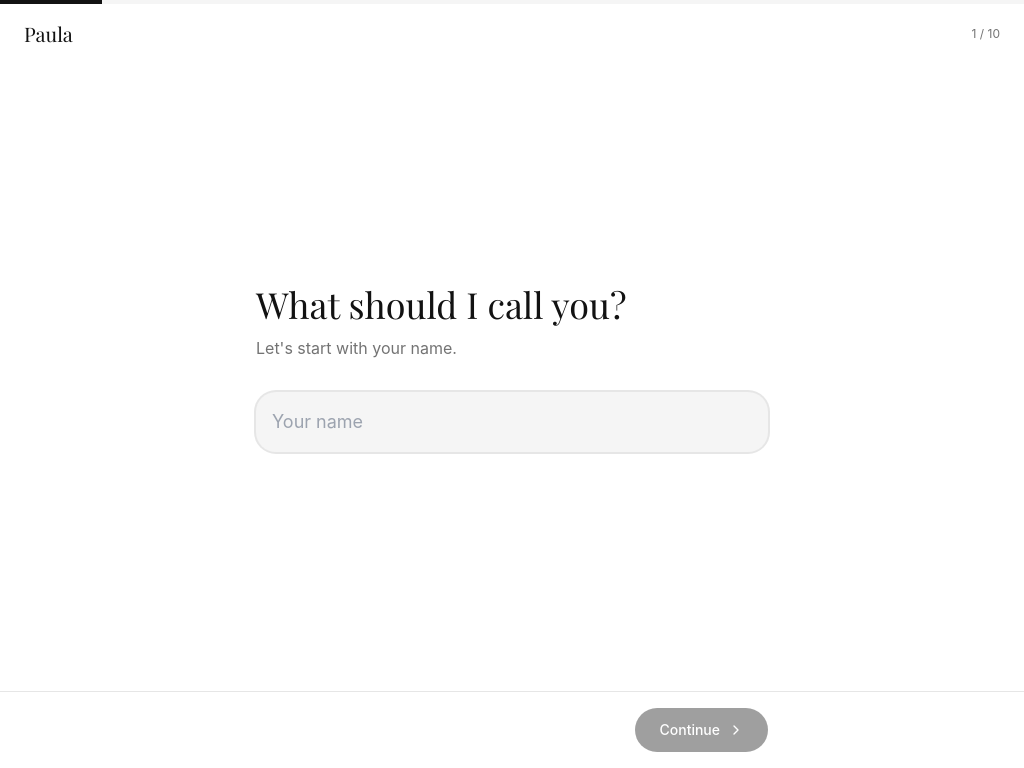
Test: Onboarding — sensowność wpisanych wymiarów › nie przepuszcza dalej, póki obwody nie są podane
Type "Gabriela" into the field with placeholder "Your name". click: {"x": 512, "y": 422}
box: [256,392,768,452]
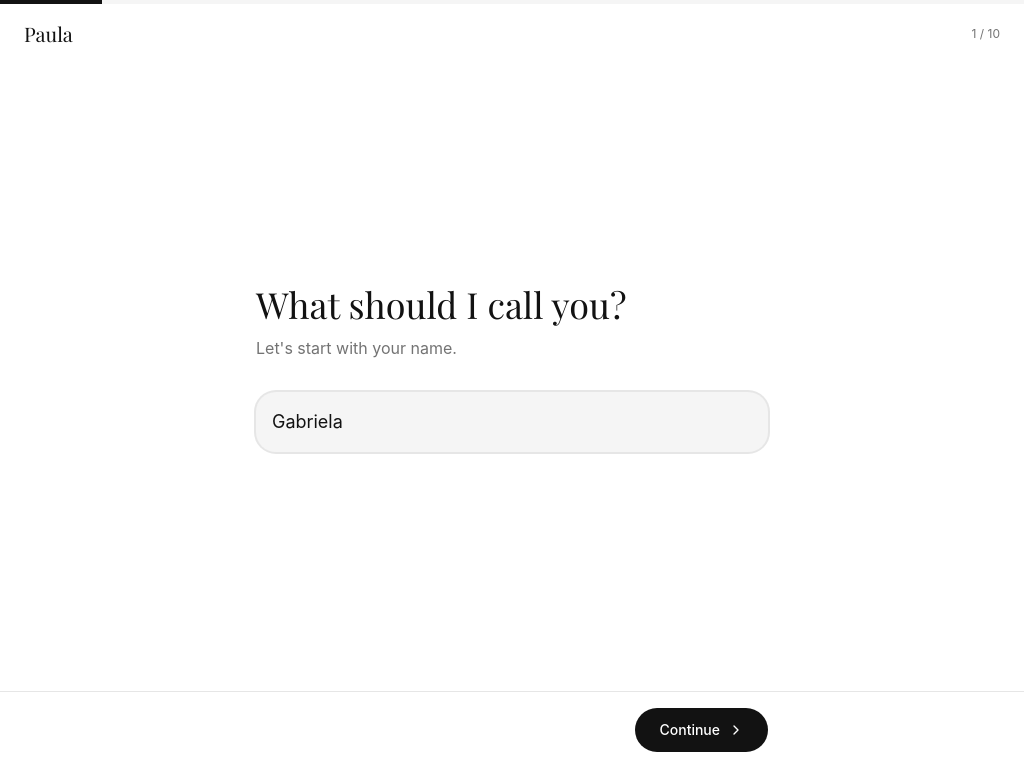
Now the button "Continue" is enabled
Click the button "Continue". click: {"x": 702, "y": 730}
box: [636,708,768,752]
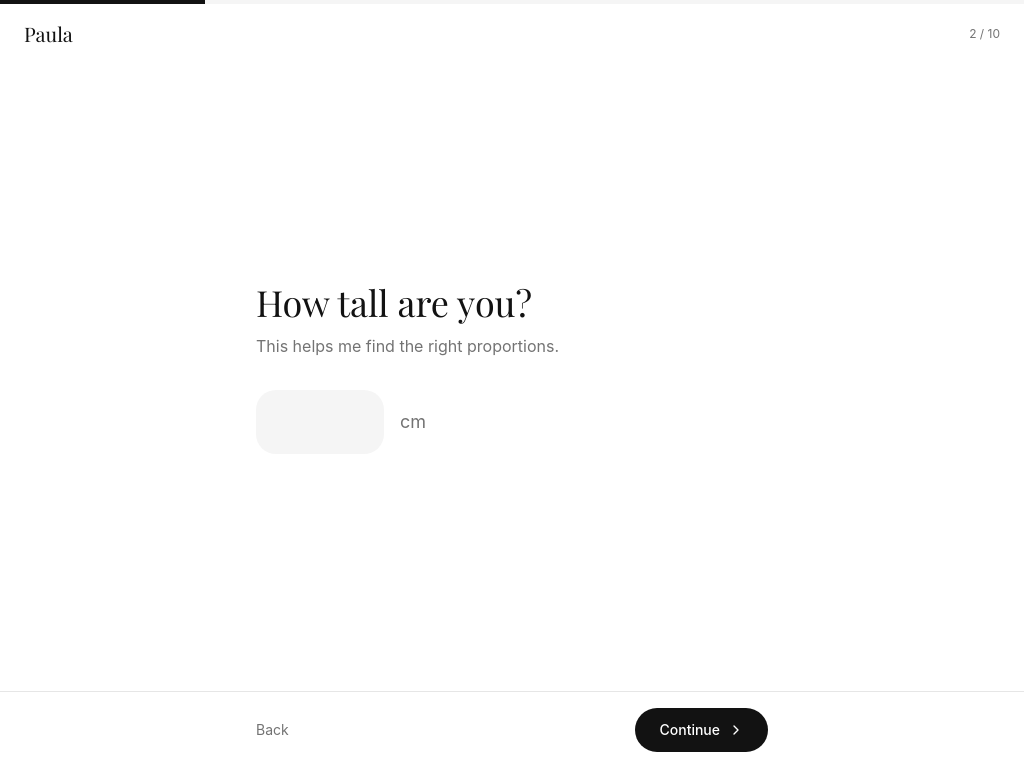
Now the button "Continue" is enabled
Click the button "Continue". click: {"x": 702, "y": 730}
box: [636,708,768,752]
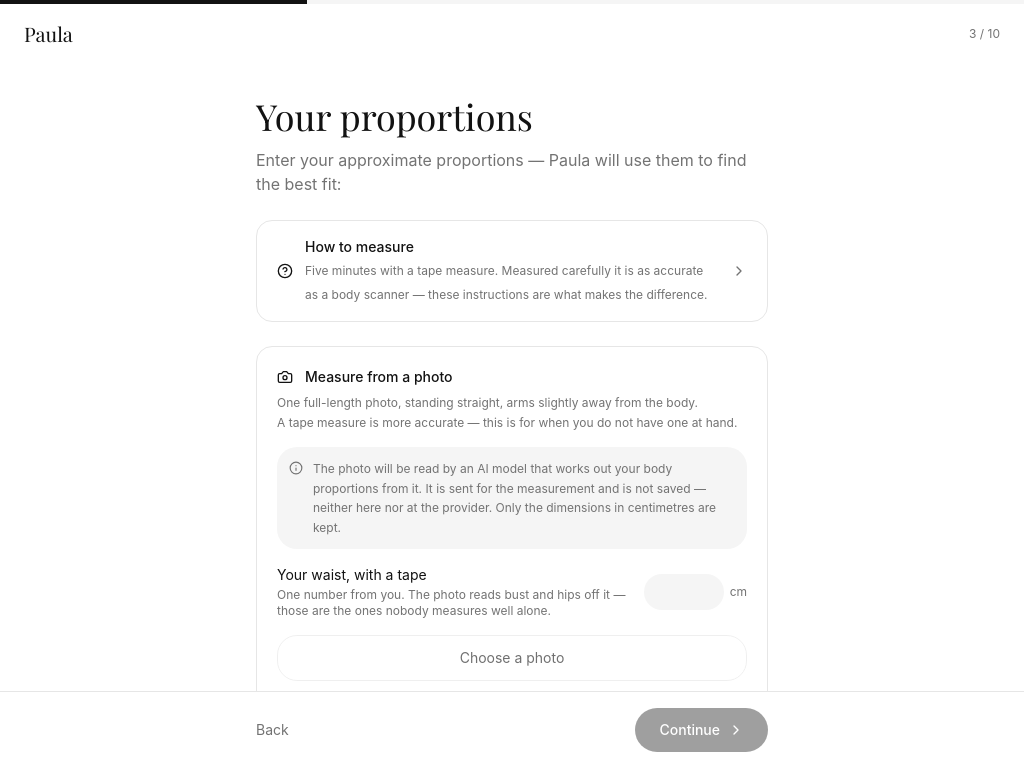
Now the button "Continue" is disabled, box [636,708,768,752]
